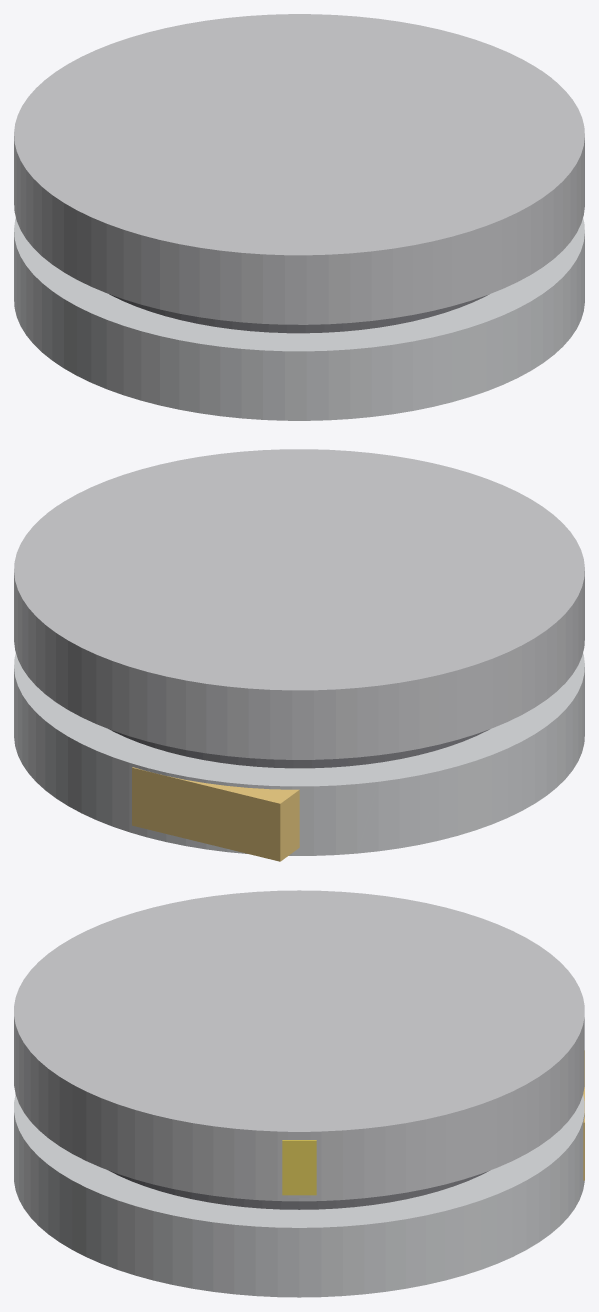
File: robo01_rotor_m.glb
3 views of the same model, one above another, from view 1: azimuth 30°, elevation 25°; view 2: azimuth 150°, elevation 25°; view 3: azimuth 270°, elevation 25° (orthographic).
Parts seen in each view (by area): view 1: half_b_rotor, base, bearing; view 2: half_b_rotor, base, drive, bearing; view 3: half_b_rotor, base, bearing, half_b_mark.
Boxes of the visible parts, x1=… form: half_b_rotor: x1=14, y1=14, x2=584, y2=324; base: x1=14, y1=218, x2=584, y2=420; bearing: x1=109, y1=294, x2=489, y2=333; half_b_rotor: x1=14, y1=449, x2=584, y2=759; base: x1=14, y1=653, x2=584, y2=855; drive: x1=132, y1=767, x2=299, y2=861; bearing: x1=110, y1=729, x2=489, y2=768; half_b_rotor: x1=14, y1=890, x2=584, y2=1201; base: x1=14, y1=1094, x2=584, y2=1297; bearing: x1=109, y1=1170, x2=489, y2=1209; half_b_mark: x1=282, y1=1140, x2=316, y2=1195.
Bounding box in the file's own units: 1.25 × 0.4 × 1.25.
